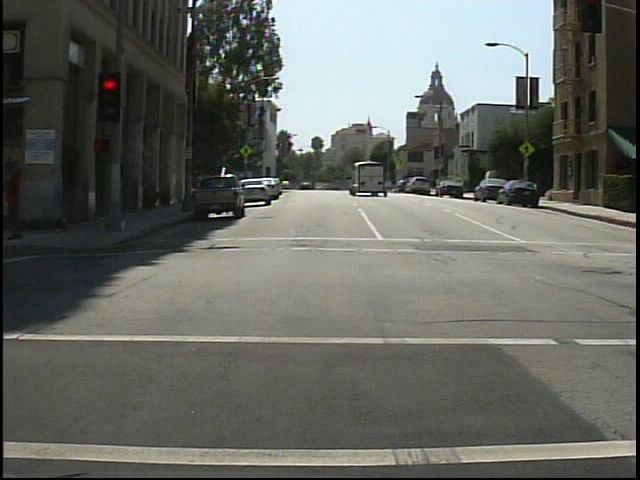person: (5, 156, 36, 239)
